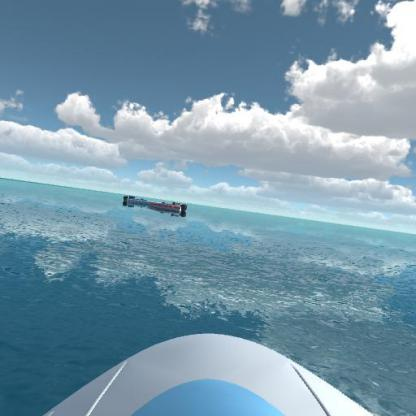usv1: (117, 191, 148, 207)
usv3: (146, 198, 190, 220)
